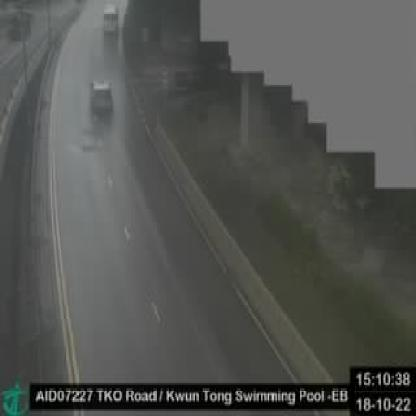Car: (90, 78, 113, 116)
Truck: (102, 3, 119, 35)
